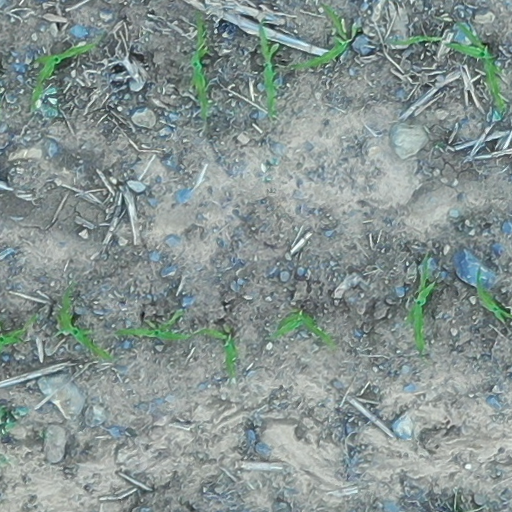planta: (448, 22, 506, 111), (290, 4, 359, 68), (31, 41, 96, 107), (58, 291, 110, 359), (406, 257, 438, 350), (274, 312, 335, 348), (190, 17, 211, 117), (260, 20, 281, 116), (119, 312, 189, 340), (196, 328, 237, 374), (390, 35, 443, 45)
